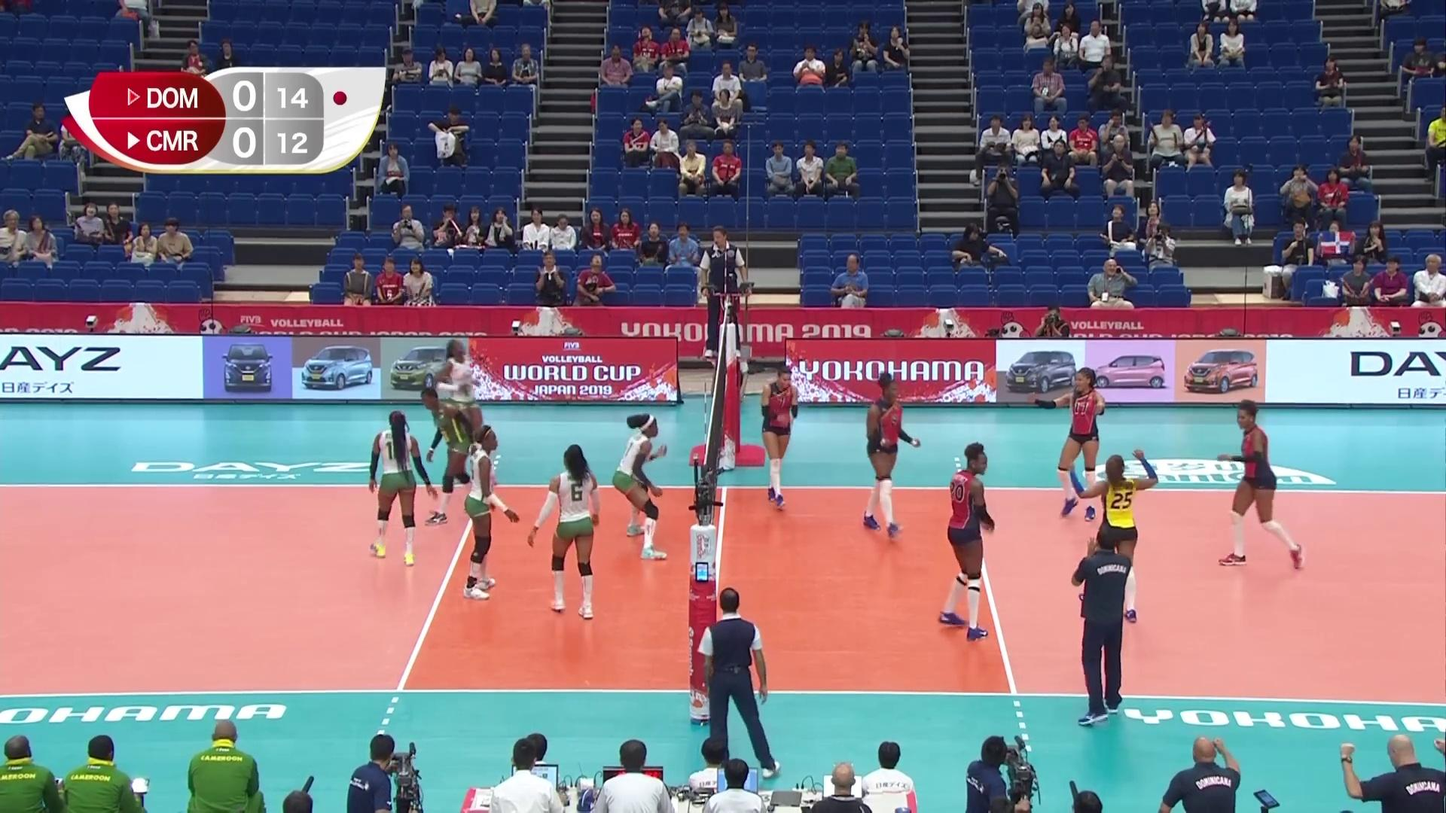player: (1069, 449, 1158, 622), (1220, 402, 1307, 570), (532, 445, 606, 620), (941, 445, 997, 637), (421, 386, 493, 527), (369, 410, 433, 568), (861, 378, 922, 536), (1045, 368, 1107, 522), (466, 426, 519, 602), (614, 412, 672, 562), (437, 340, 487, 469), (763, 366, 801, 510)
refree: (700, 587, 782, 778), (701, 227, 746, 357)
